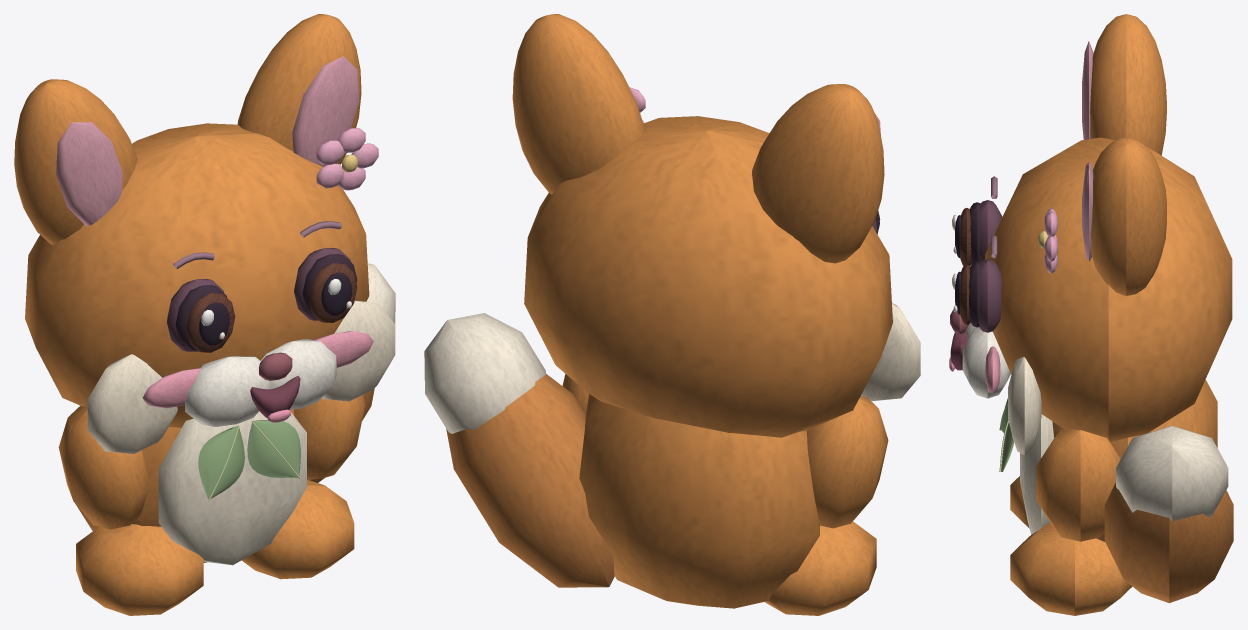
The model's file is avatar-lod1.glb.
3 renders of one model, left to right at view 1: azimuth 30°, elevation 25°; view 2: azimuth 150°, elevation 25°; view 3: azimuth 270°, elevation 25°, orthographic. The views are drawn at different scales.
Parts seen in each view (by area): view 1: FernBody, FernScarf; view 2: FernBody; view 3: FernBody, FernScarf.
Boxes of the visible parts, x1,y1,x2,y2 form: FernBody: (14,14,395,615); FernScarf: (198,419,300,499); FernBody: (424,14,920,615); FernBody: (949,14,1233,615); FernScarf: (1001,398,1014,471).
Size of the model in its own units: 1.47 by 1.85 by 0.9646.
Materials: 3 (1 with a texture image).
